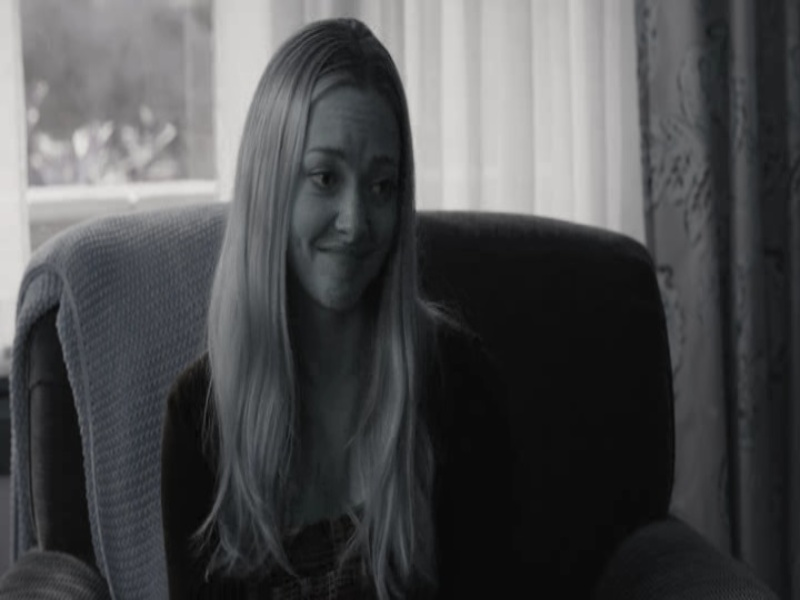TsisyArotava: (259, 41, 413, 320)
